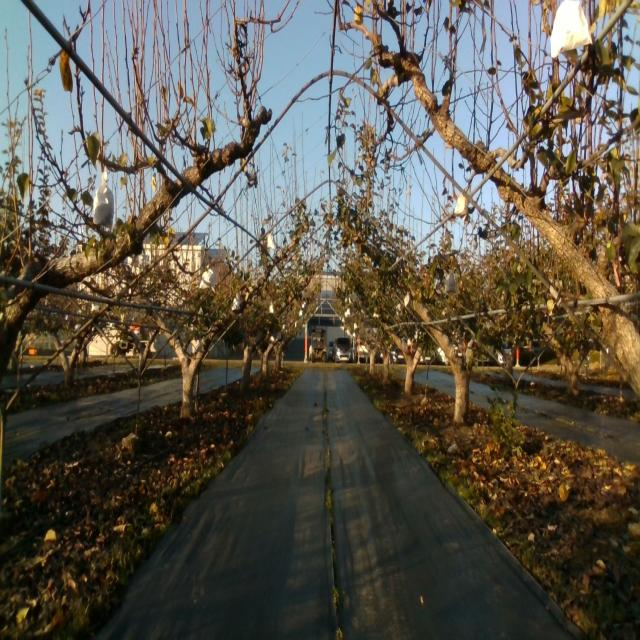pearbags: (550, 0, 592, 61), (92, 170, 114, 227), (452, 192, 468, 224), (199, 264, 213, 288), (445, 272, 456, 294)
